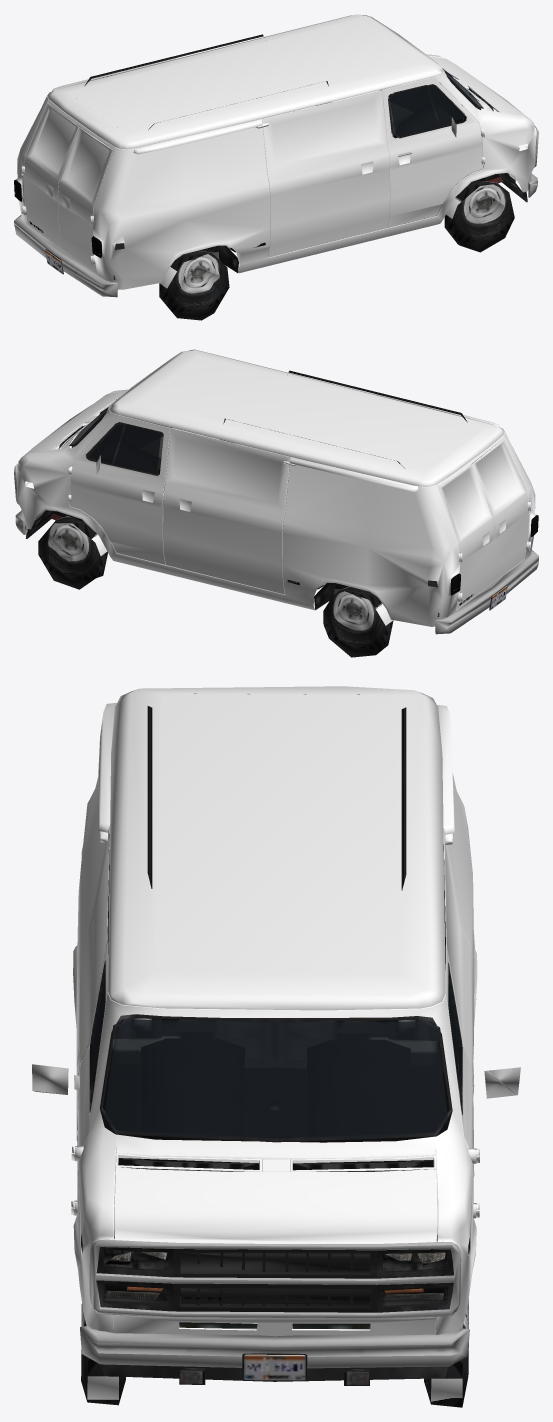
The model's file is car_van.glb.
The picture shows the model from 3 angles, top to bottom: view 1: azimuth 30°, elevation 25°; view 2: azimuth 150°, elevation 25°; view 3: azimuth 270°, elevation 25°; orthographic projection. The views are drawn at different scales.
Parts seen in each view (by area): view 1: paint, body, glass; view 2: paint, body, glass; view 3: paint, body, glass.
Boxes of the visible parts, box(x1,y1,x2,y2) form: paint: box(16, 14, 536, 289); body: box(14, 34, 538, 320); glass: box(389, 68, 482, 135); paint: box(16, 349, 536, 626); body: box(14, 370, 538, 657); glass: box(70, 399, 160, 473); paint: box(71, 686, 479, 1336); body: box(32, 706, 520, 1407); glass: box(90, 964, 462, 1138).
Bounding box in the file's own units: 5.2 × 2.18 × 2.47.
2 materials, 1 textured.
